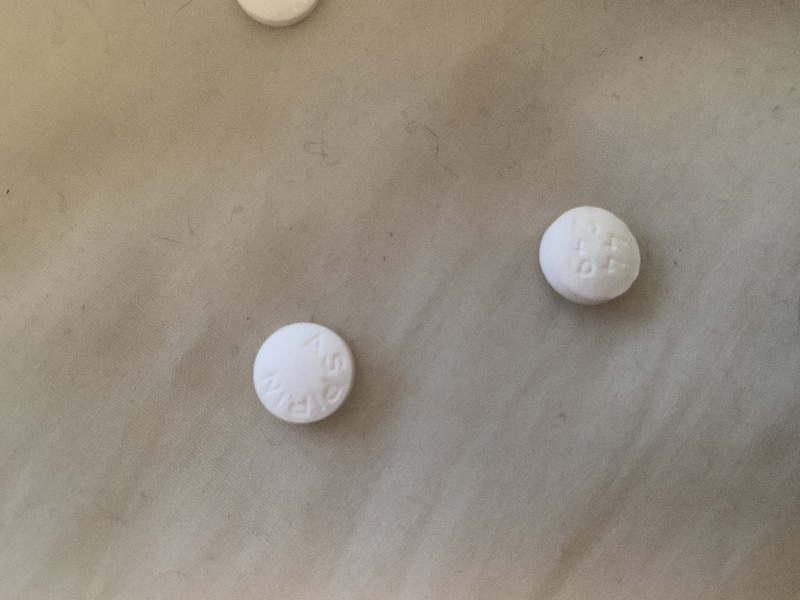Aspirin: (533, 189, 649, 312), (246, 319, 362, 428)
